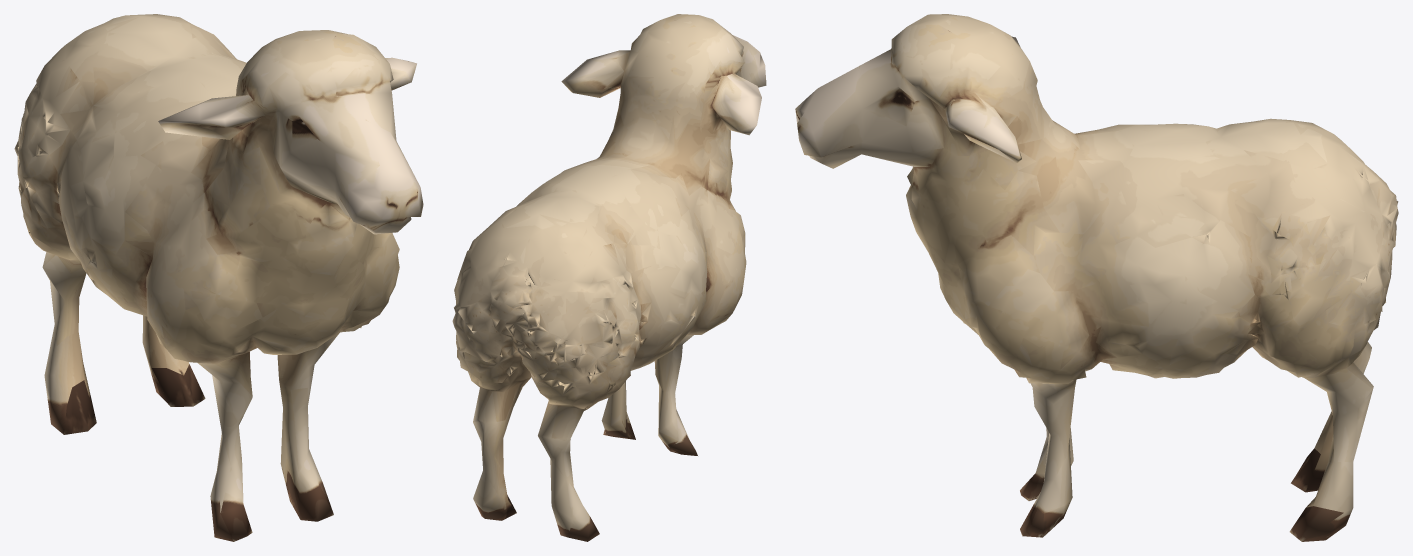
File: sheep.fbx
3 views of the same model, side by side, from view 1: azimuth 30°, elevation 25°; view 2: azimuth 150°, elevation 25°; view 3: azimuth 270°, elevation 25° (orthographic). The views are drawn at different scales.
Parts seen in each view (by area): view 1: Mesh_0; view 2: Mesh_0; view 3: Mesh_0.
Boxes of the visible parts, box(x1,y1,x2,y2) form: Mesh_0: box(14, 14, 423, 541); Mesh_0: box(452, 14, 766, 541); Mesh_0: box(795, 14, 1398, 541).
Size of the model in its own units: 54.51 by 107 by 119.
